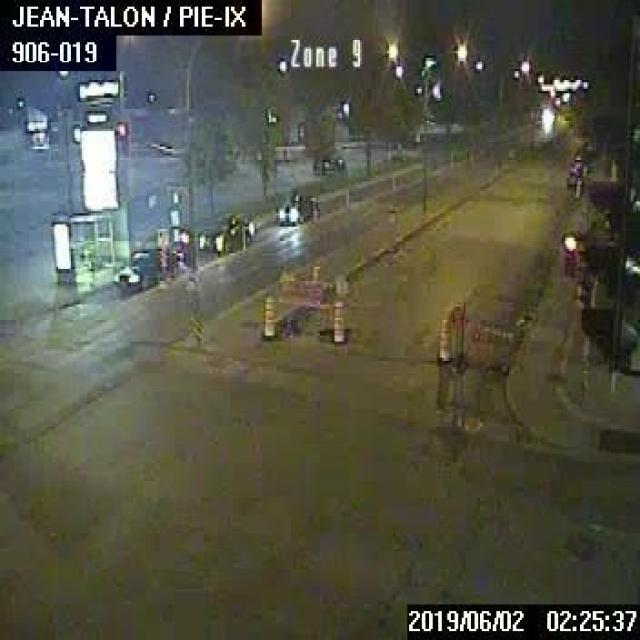construction: (274, 265, 349, 339), (449, 299, 512, 372), (331, 299, 345, 344), (436, 317, 450, 361), (260, 294, 274, 337)
vehicle: (111, 244, 172, 291), (196, 211, 251, 251), (276, 190, 320, 224), (312, 154, 344, 175), (565, 168, 581, 185), (571, 155, 584, 168)
